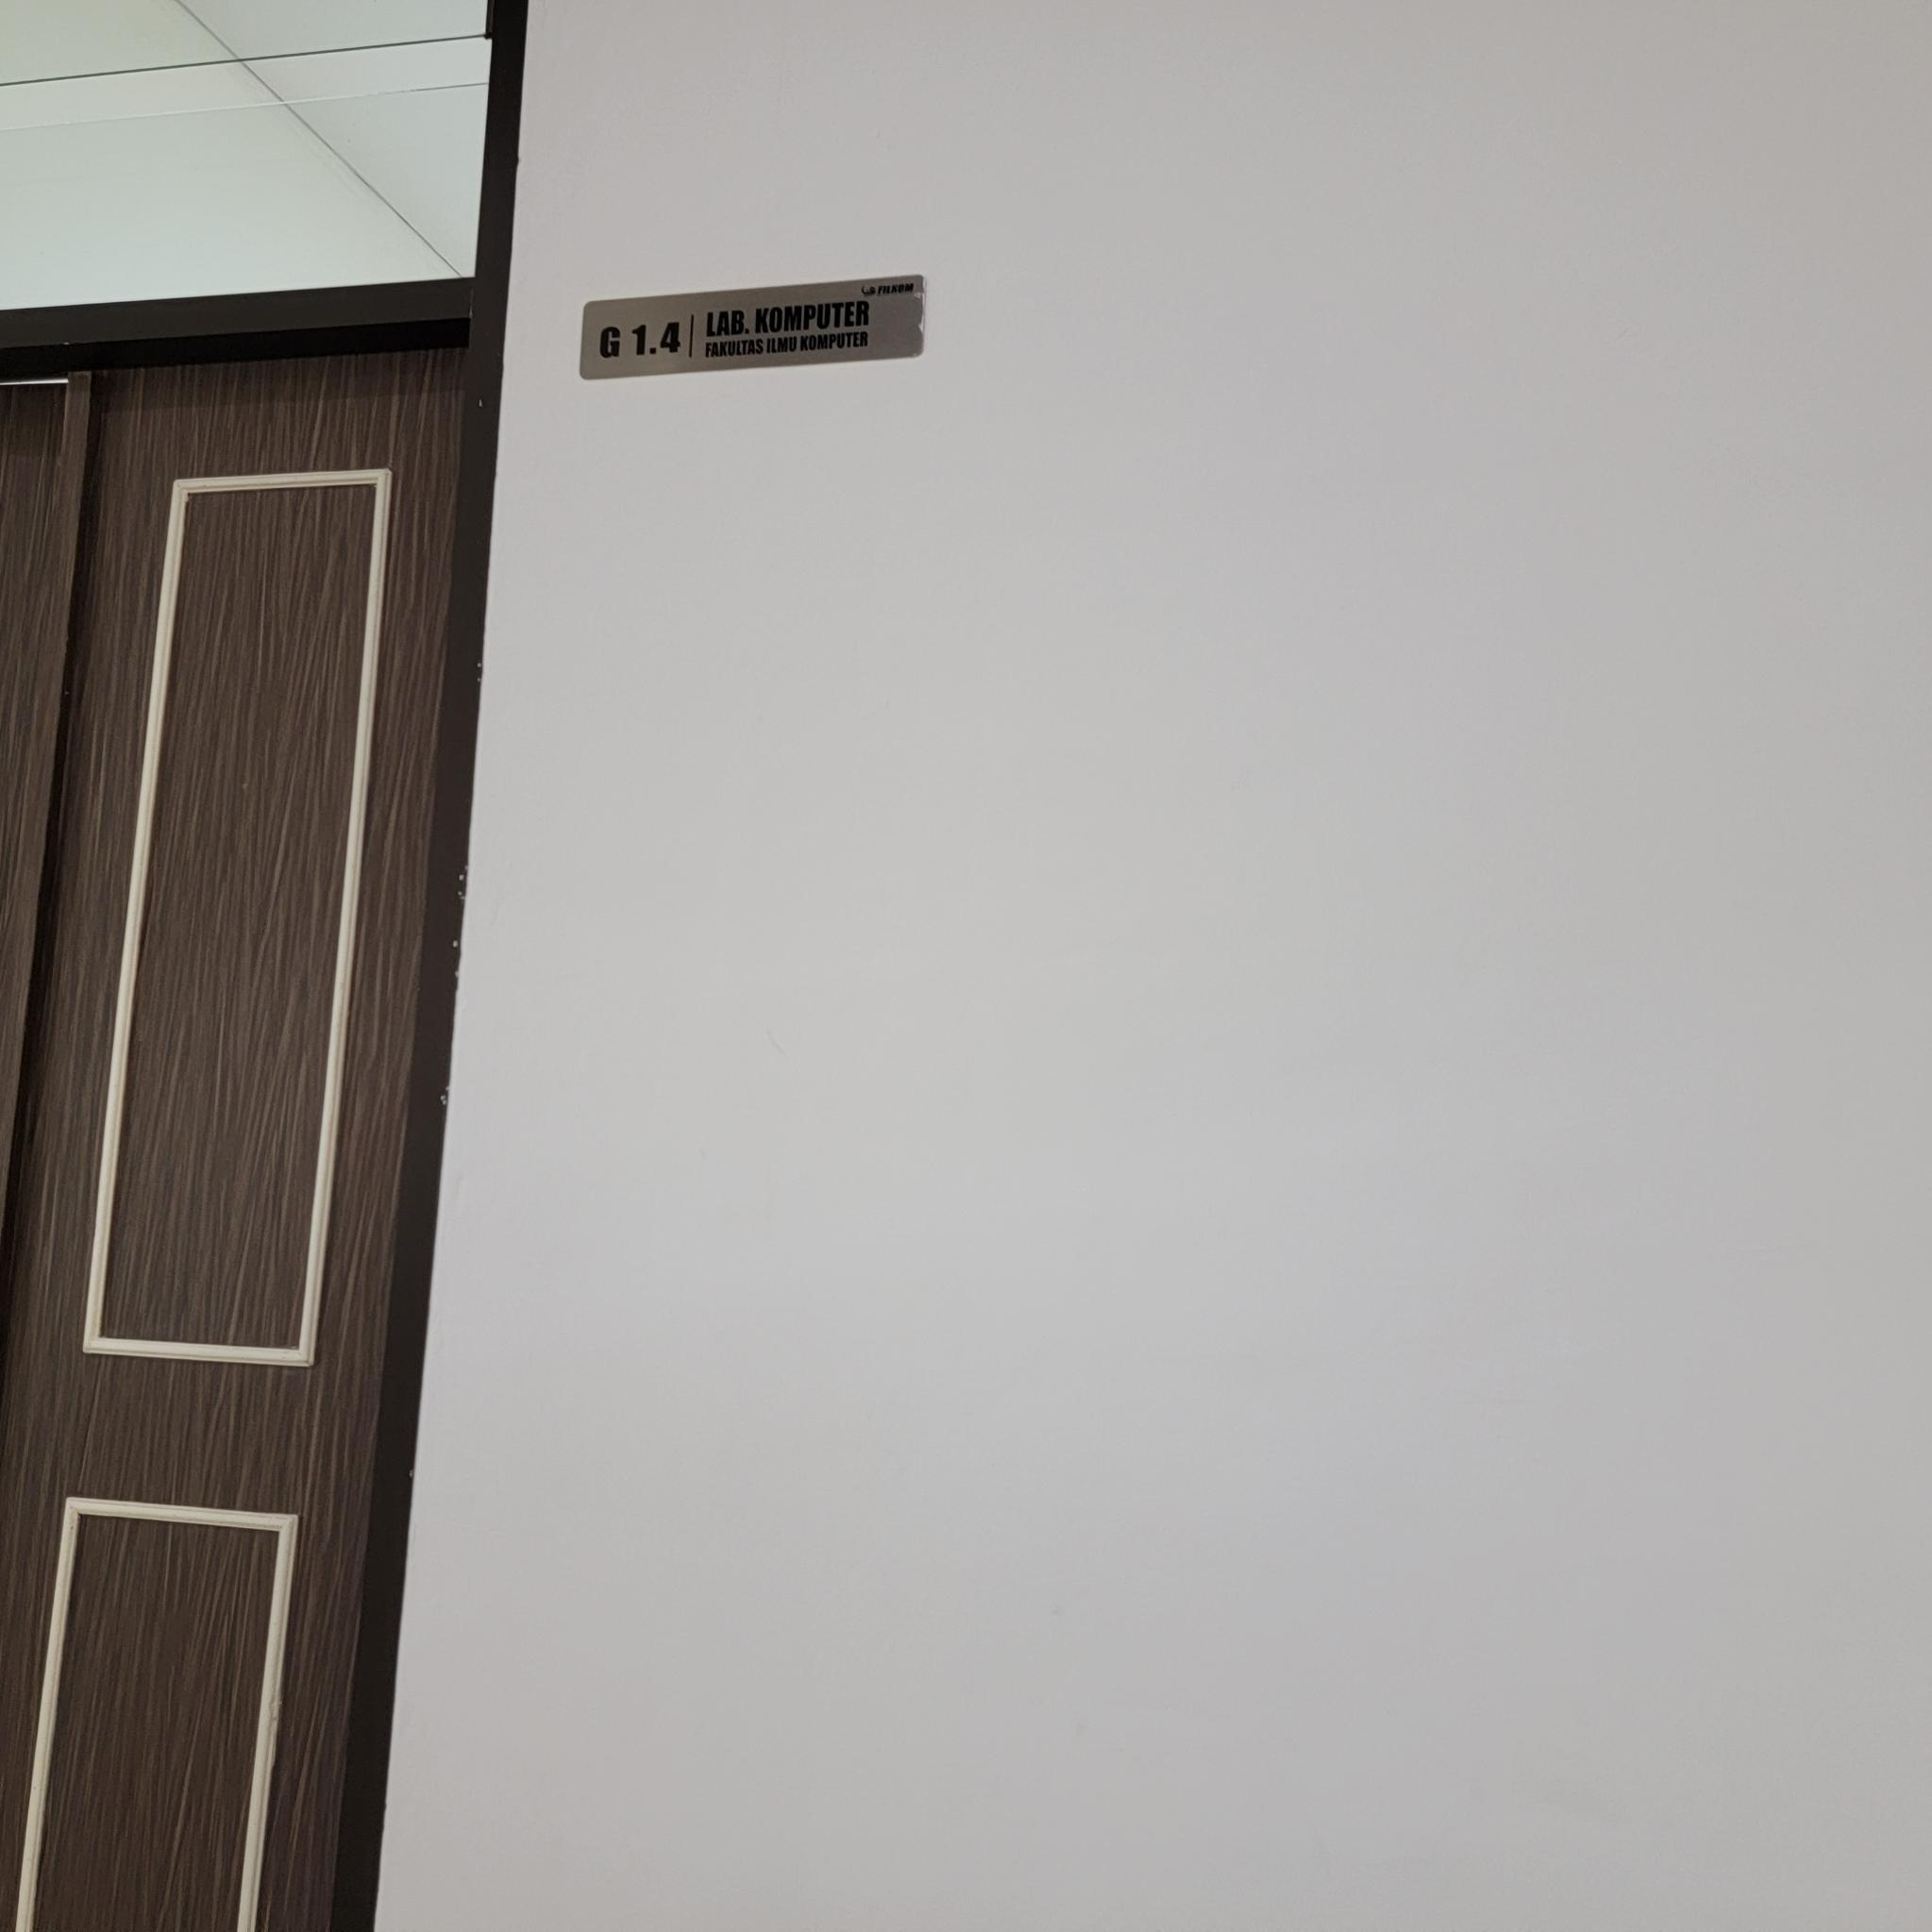plate: (582, 274, 925, 384)
